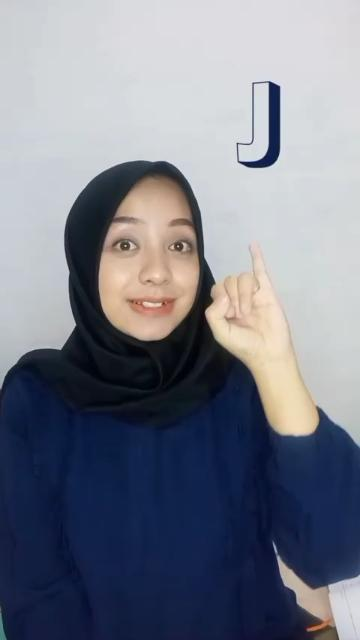I: (205, 242, 299, 372)
